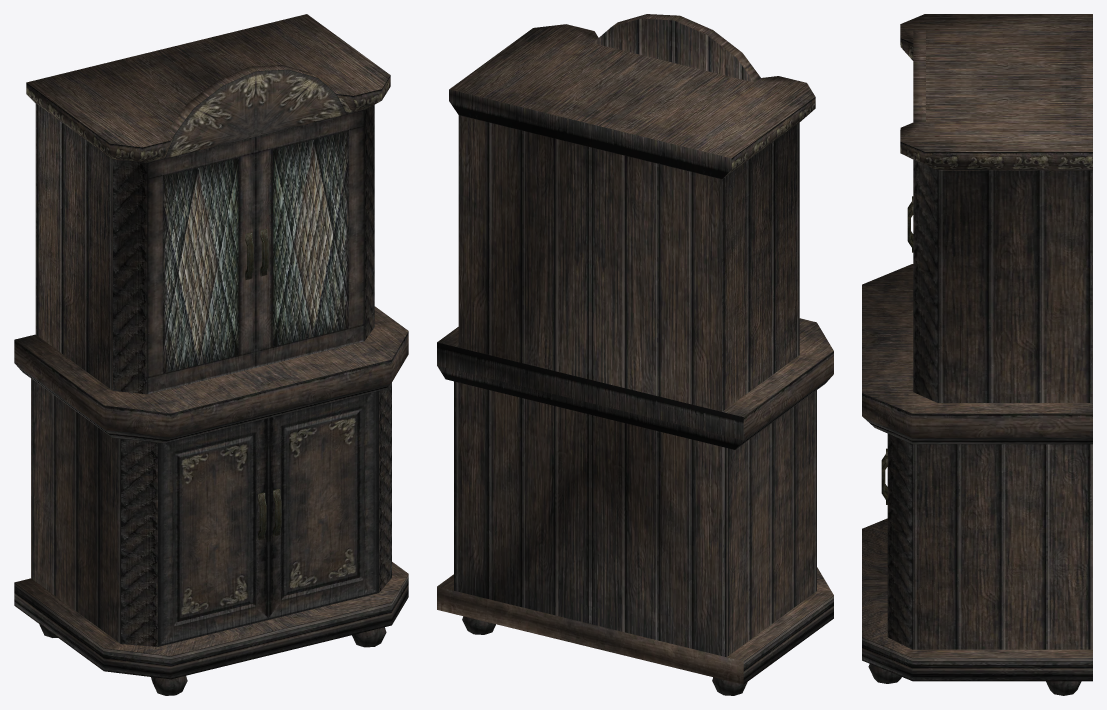
Rendered from GS_CITY_CUPBOARD_BLACK_03_KOZA.glb.
3 views of the same model, side by side, from view 1: azimuth 30°, elevation 25°; view 2: azimuth 150°, elevation 25°; view 3: azimuth 270°, elevation 25° (orthographic).
Parts seen in each view (by area): view 1: Mesh; view 2: Mesh; view 3: Mesh.
Boxes of the visible parts, x1=… form: Mesh: x1=14, y1=14, x2=408, y2=695; Mesh: x1=437, y1=14, x2=833, y2=695; Mesh: x1=862, y1=14, x2=1092, y2=695.
Size of the model in its own units: 1.38 by 2.53 by 0.9.
Materials: 5 (5 with a texture image).
